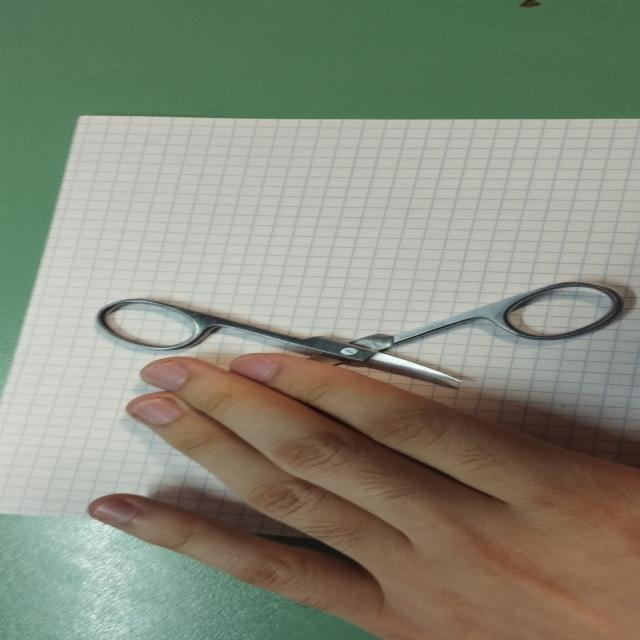tesoura: (85, 275, 640, 401)
